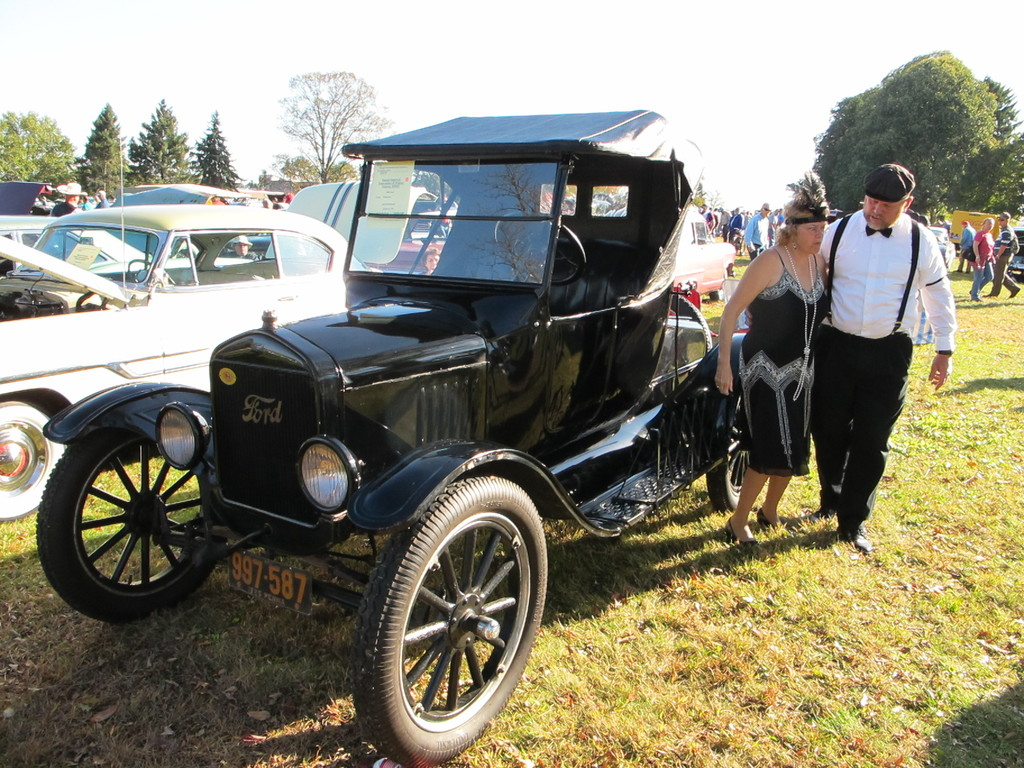Car: (33, 111, 747, 767), (0, 126, 382, 519), (620, 209, 734, 299), (0, 216, 151, 277)
